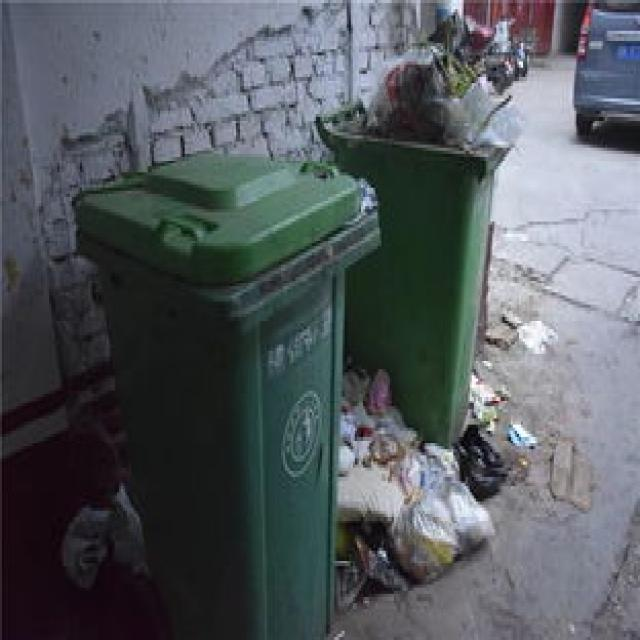garbage: (334, 363, 538, 597)
garbage_bin: (72, 145, 379, 637)
overflow: (314, 9, 504, 437)
